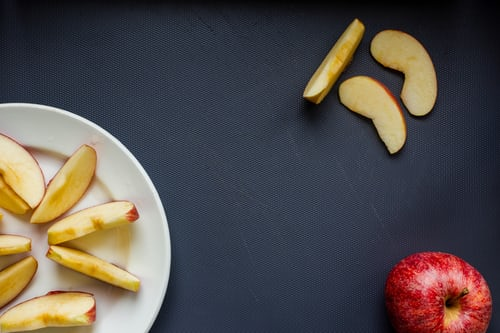apple: (377, 251, 496, 333), (368, 29, 441, 117), (27, 142, 101, 228), (335, 75, 412, 156), (301, 15, 367, 108), (42, 196, 140, 250), (1, 284, 105, 333), (41, 252, 150, 290), (1, 130, 46, 216), (1, 254, 38, 311), (1, 232, 33, 256)
